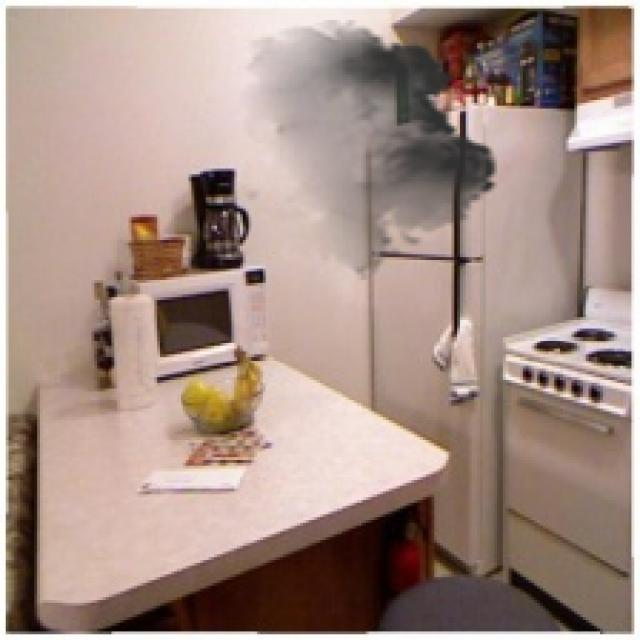smoke: (232, 20, 508, 283)
